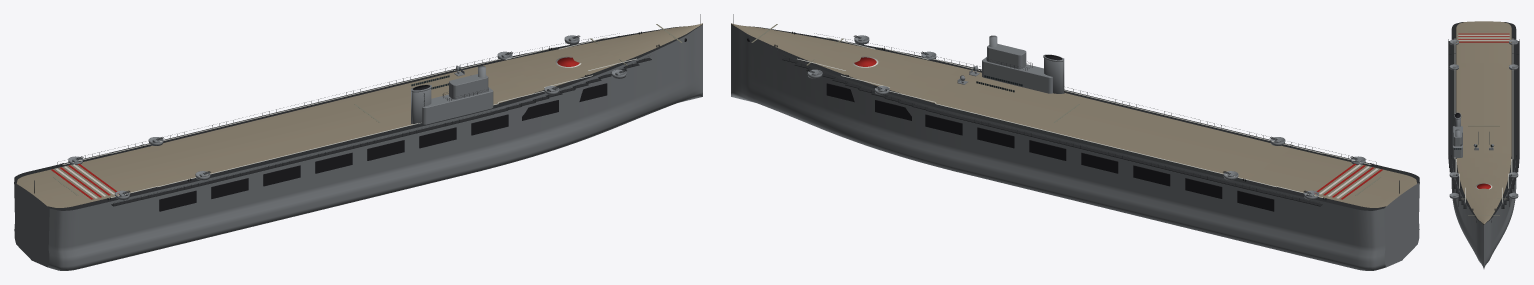
The model's file is kaga.glb.
The picture shows the model from 3 angles, left to right: view 1: azimuth 30°, elevation 25°; view 2: azimuth 150°, elevation 25°; view 3: azimuth 270°, elevation 25°; orthographic projection. The views are drawn at different scales.
Visible parts, largest first — view 1: kaga; view 2: kaga; view 3: kaga.
Boxes of the visible parts, bbox=[...] form: kaga: bbox=[14, 14, 702, 270]; kaga: bbox=[731, 14, 1419, 270]; kaga: bbox=[1448, 21, 1519, 268].
Bounding box in the file's own units: 248 × 36.5 × 35.89.
